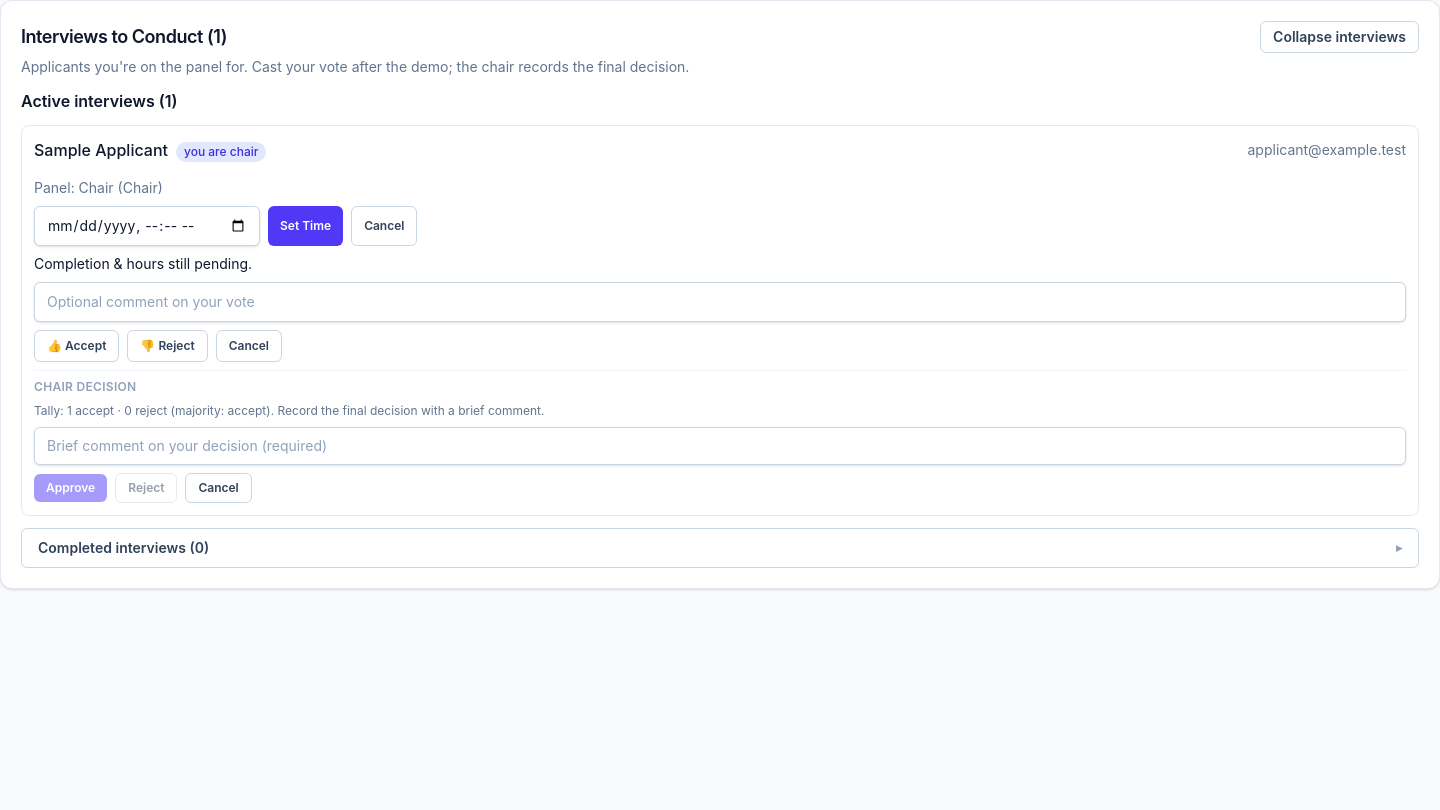
Test: cancels vote and final-decision drafts without writing
Type "Unsaved vote evidence" into the field labelled "Optional comment on your vote" at (720, 302), box 34,282 -> 1406,322
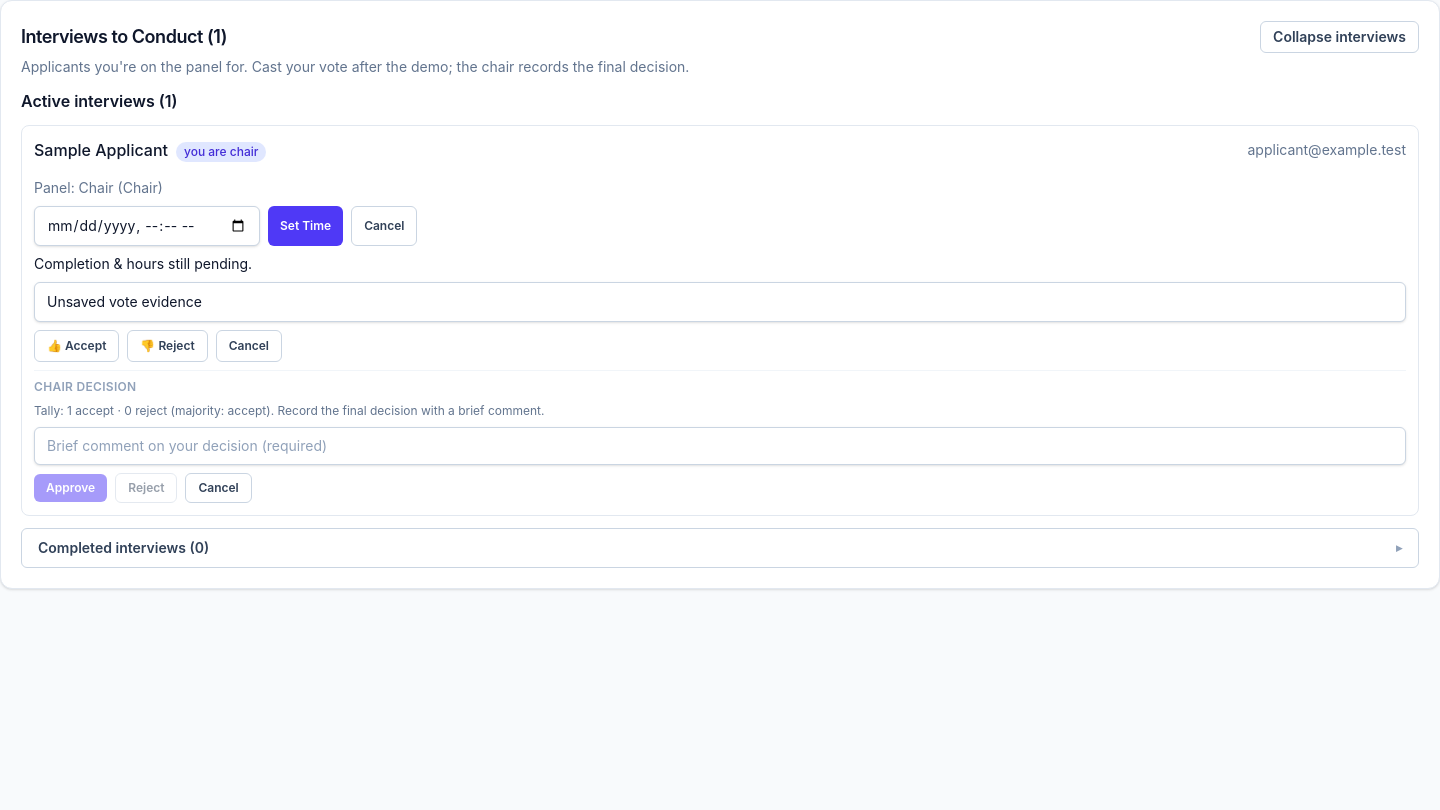
Type "Unsaved final decision" into the field labelled "Brief comment on your decision (required)" at (720, 446), box 34,427 -> 1406,465
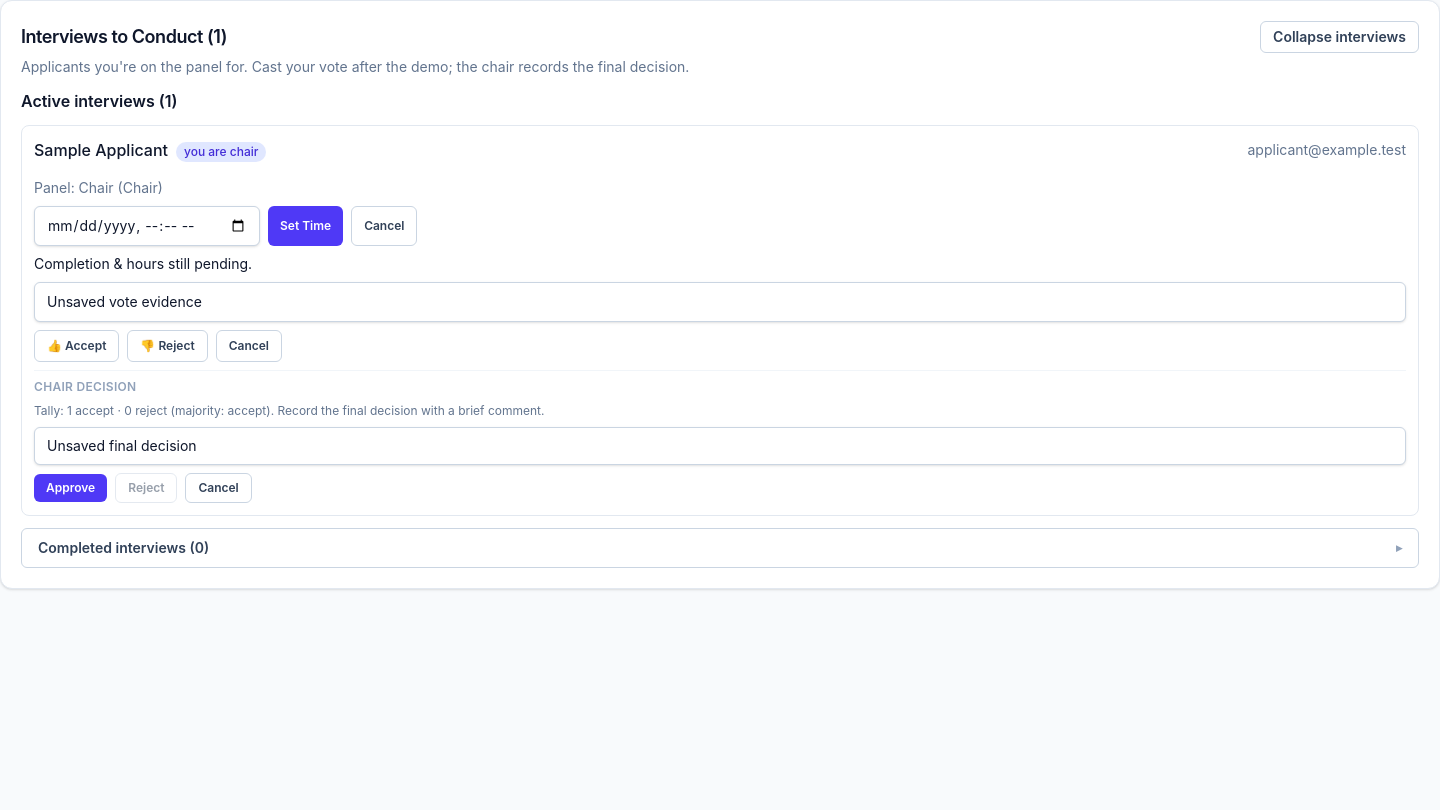
Click the 2nd button "Cancel" at (249, 346), box 216,330 -> 282,362
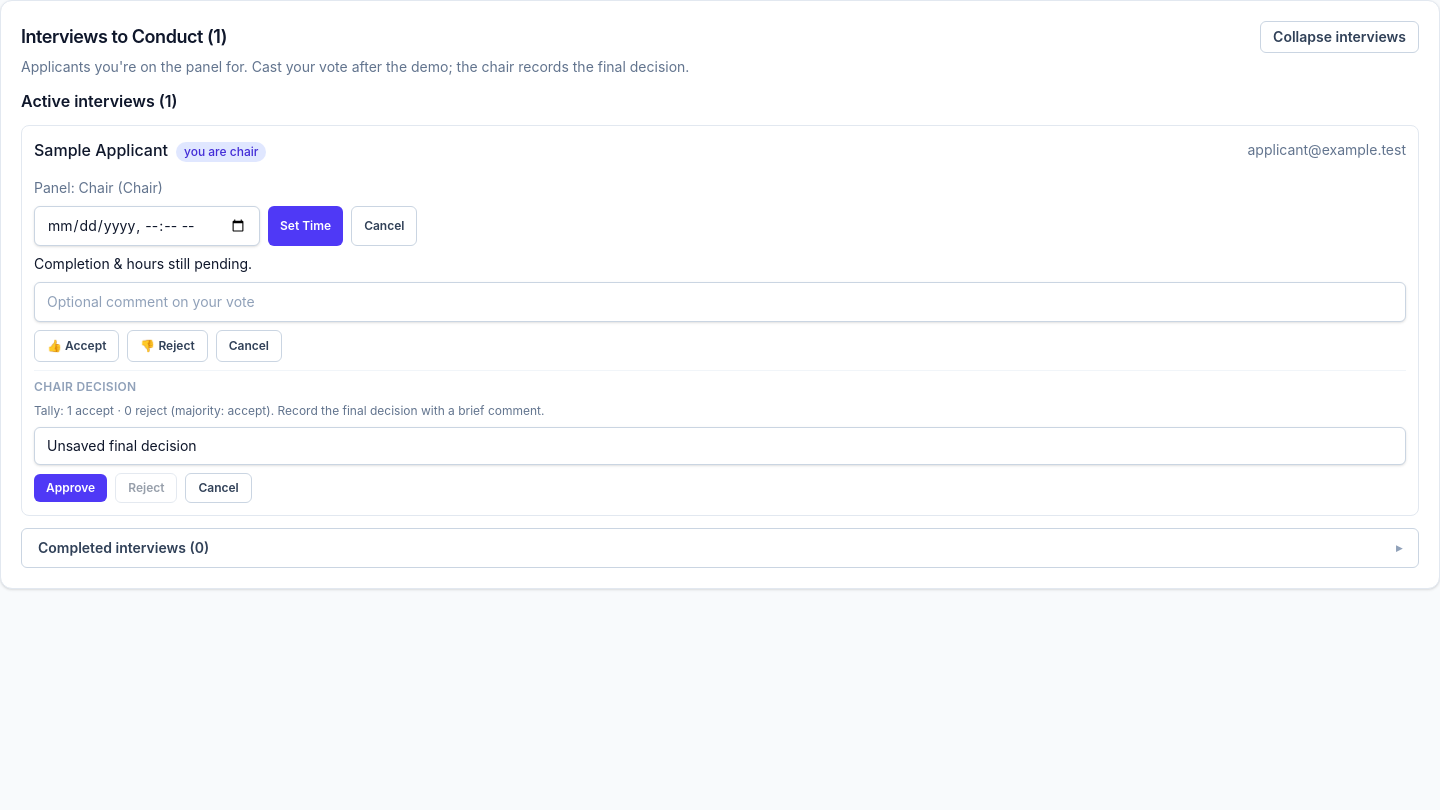
Click the button "Cancel" below "Chair Decision" at (219, 488), box 186,473 -> 252,503
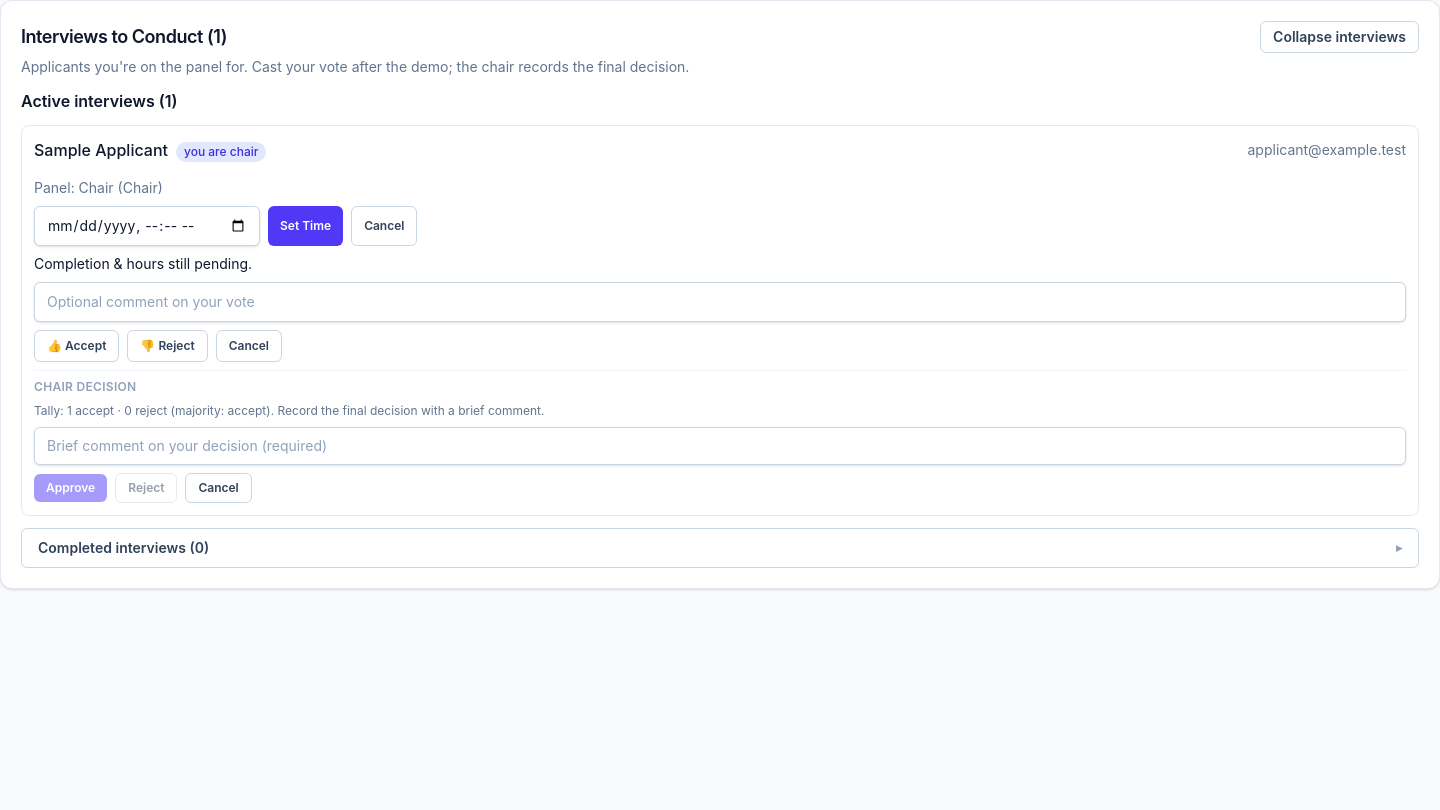
Now the field labelled "Optional comment on your vote" is empty, box 34,282 -> 1406,322
Now the field labelled "Brief comment on your decision (required)" is empty, box 34,427 -> 1406,465
